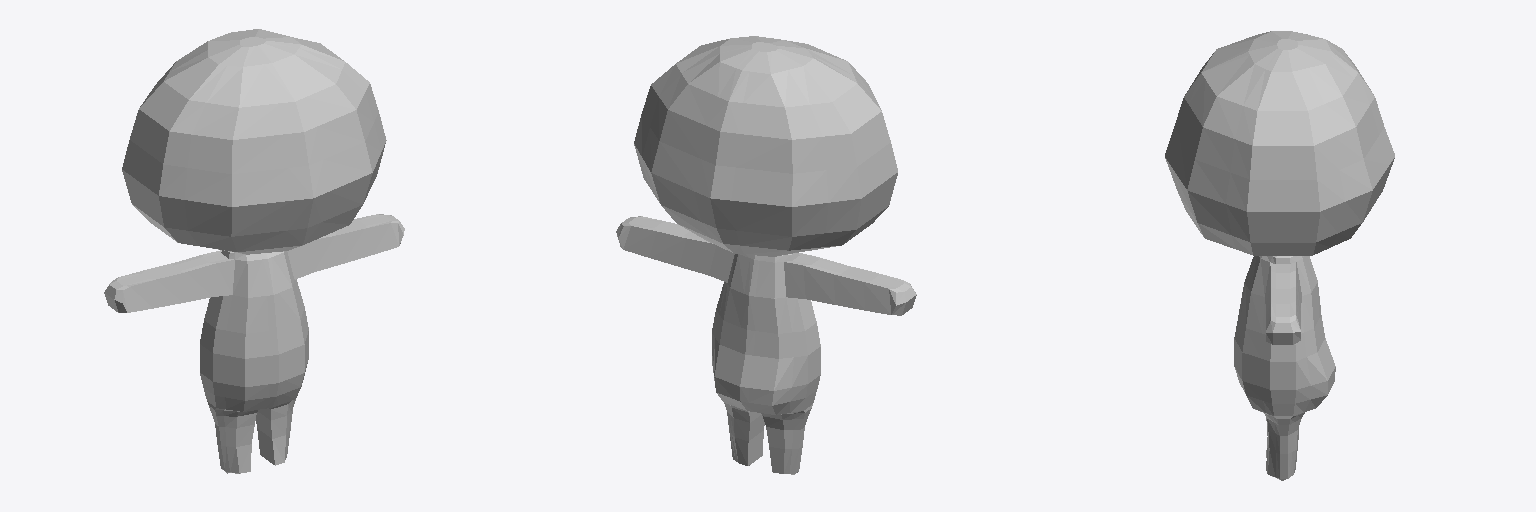
Rendered from Bonequin.obj.
3 views of the same model, side by side, from view 1: azimuth 30°, elevation 25°; view 2: azimuth 150°, elevation 25°; view 3: azimuth 270°, elevation 25° (orthographic).
Visible parts, largest first — view 1: Circle_Circle.003; view 2: Circle_Circle.003; view 3: Circle_Circle.003.
Part boxes in pixels (bbox=[...]): Circle_Circle.003: bbox=[104, 29, 404, 473]; Circle_Circle.003: bbox=[616, 36, 916, 474]; Circle_Circle.003: bbox=[1165, 31, 1394, 480].
Size of the model in its own units: 2.05 by 2.86 by 1.42.